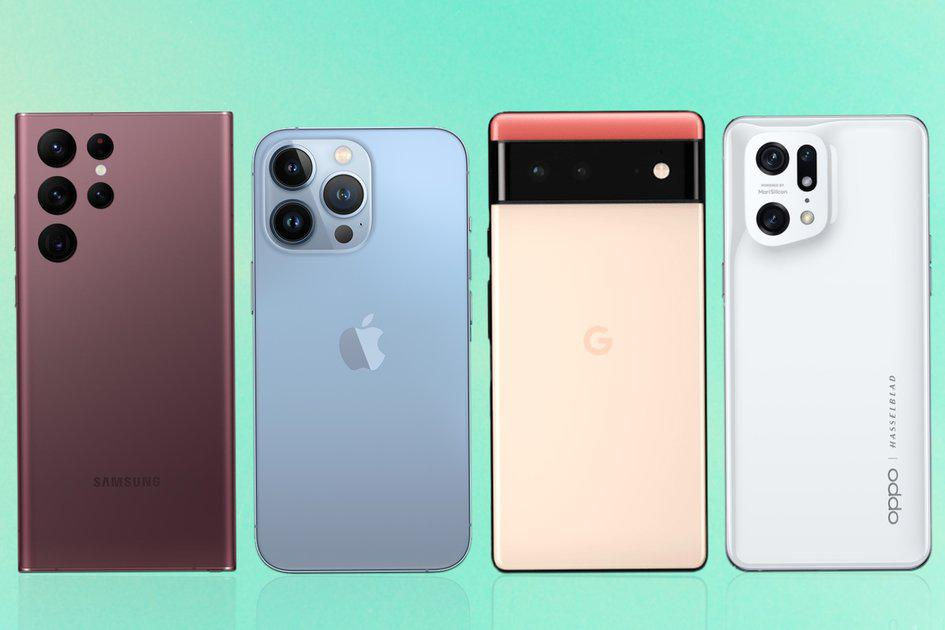Smartphone: (477, 100, 721, 575), (9, 109, 224, 571), (720, 117, 932, 572), (265, 121, 473, 569)
